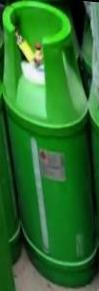cylinder: (1, 0, 99, 291)
